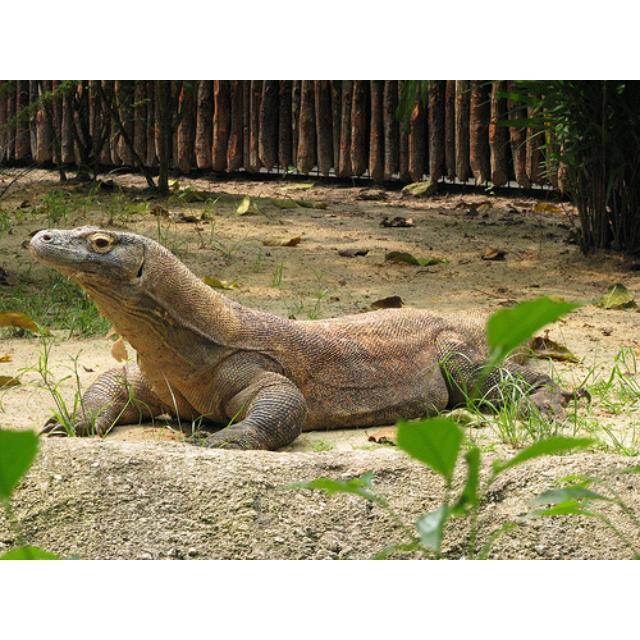KomodoDragon: (24, 223, 578, 450)
